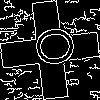O: (25, 25, 76, 69)
